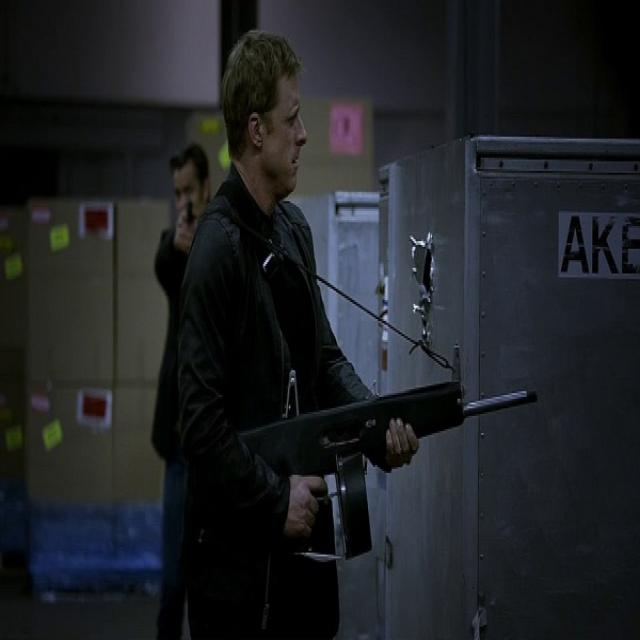rifle: (234, 349, 545, 557)
